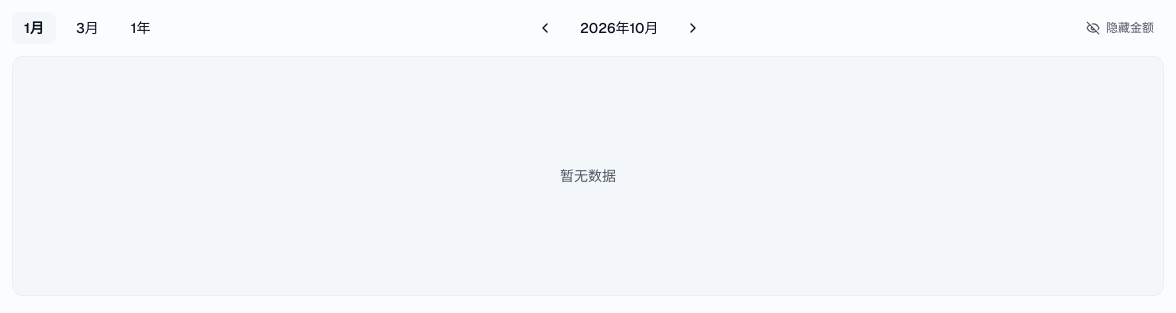
it: DailyTrendChart — 组件渲染 › 点击隐藏金额后按钮文字变为"已隐藏"
Click the button "隐藏金额". click: coordinates (1120, 28)
box: [1076,16,1164,40]
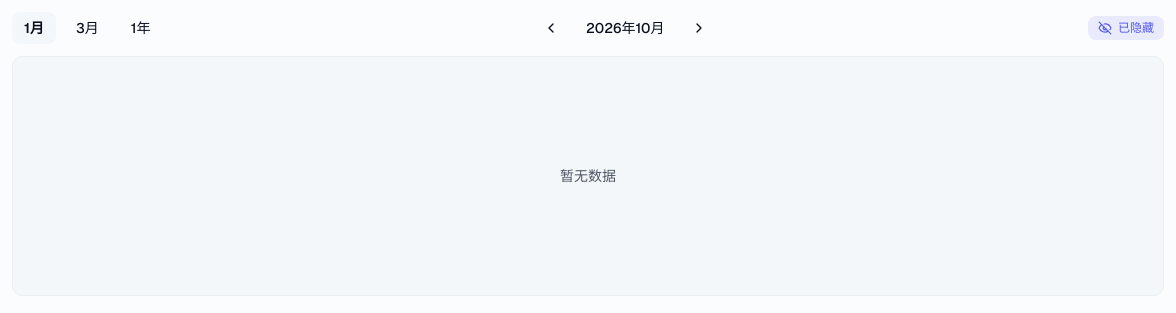
Check: the button "已隐藏" is shown, box [1088,16,1164,40]
